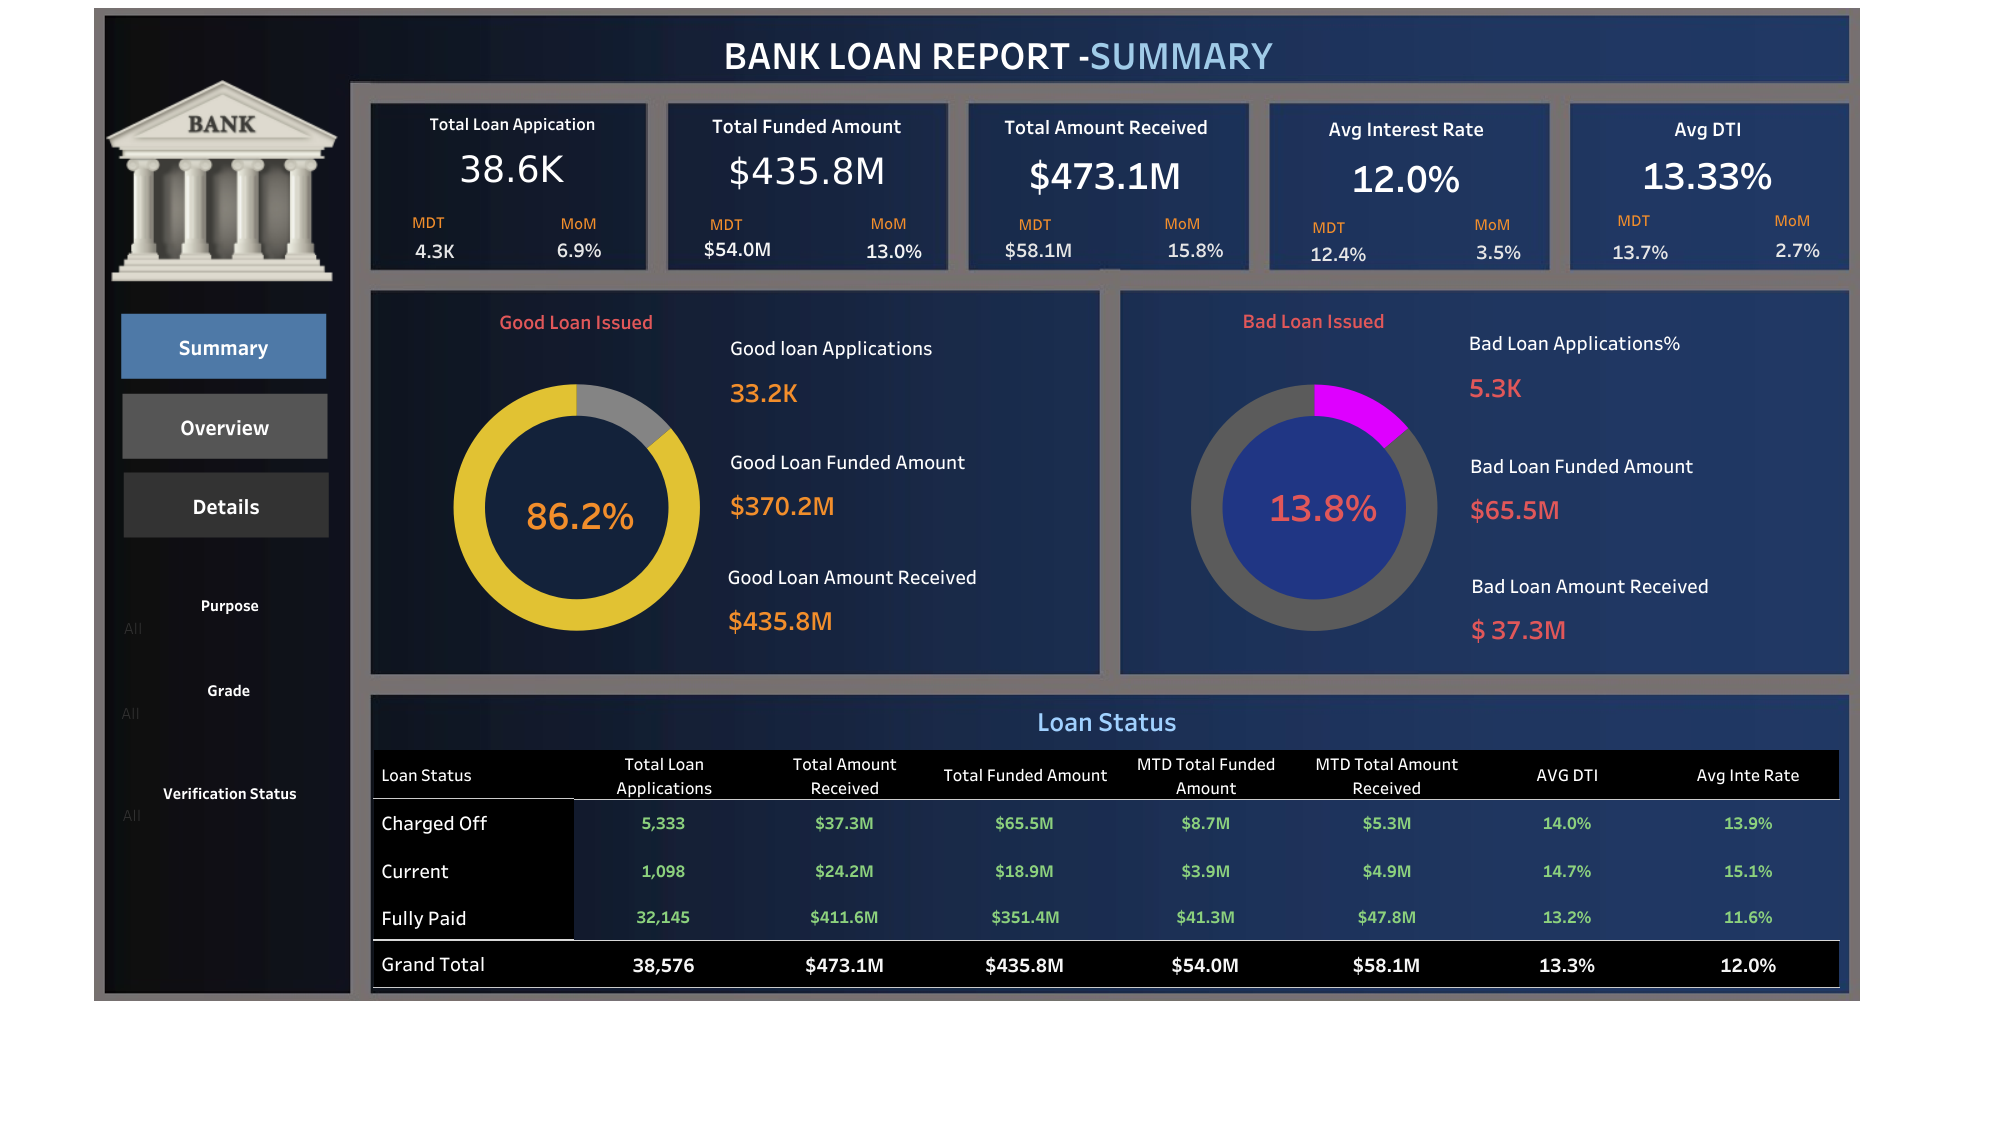

The dashboard page shown, as its layout file describes it:
{"tool":"tableau","page":{"name":"SUMMARY","canvas":[1600,900],"ordinal":2},"visuals":[{"type":"text","box":[576,20,611,46]},{"type":"image","param":"Image/bank_.png","box":[81,64,194,161]},{"type":"worksheet","title":"Total Loan Appication","mark":"Automatic","box":[299,83,222,72]},{"type":"worksheet","title":"Total Funded Amount","mark":"Automatic","box":[534,83,223,72]},{"type":"worksheet","title":"Total Amount Received","mark":"Automatic","box":[775,84,220,74]},{"type":"worksheet","title":"Avg Interest Rate ","mark":"Automatic","box":[1018,86,214,74]},{"type":"worksheet","title":"Avg  DTI","mark":"Automatic","box":[1257,86,219,71]},{"type":"text","box":[661,160,100,35]},{"type":"text","box":[1257,161,100,30]},{"type":"text","box":[1384,161,100,30]},{"type":"text","box":[327,162,38,30]},{"type":"text","box":[896,163,100,30]},{"type":"text","box":[531,164,100,30]},{"type":"text","box":[778,164,100,30]},{"type":"text","box":[1144,164,100,30]},{"type":"worksheet","title":"MoM Avg Int Rate","mark":"Automatic","box":[1172,164,54,56]},{"type":"text","box":[1013,166,100,30]},{"type":"text","box":[435,167,56,21]},{"type":"worksheet","title":"MoM Avg DTI","mark":"Automatic","box":[1403,167,70,45]},{"type":"worksheet","title":"MoM Total amount Received","mark":"Automatic","box":[924,185,65,29]},{"type":"worksheet","title":"MTD Total Funded Amount","mark":"Automatic","box":[552,186,77,24]},{"type":"worksheet","title":"MDT Avg Int Rate","mark":"Automatic","box":[1035,186,71,32]},{"type":"worksheet","title":"MDT Avg DTI","mark":"Automatic","box":[1277,186,71,30]},{"type":"worksheet","title":"MoM Loan Applications","mark":"Automatic","box":[438,187,51,24]},{"type":"worksheet","title":"MoM Total Funded amount","mark":"Automatic","box":[685,187,62,26]},{"type":"worksheet","title":"MTD Loan Applications","mark":"Automatic","box":[324,188,49,24]},{"type":"worksheet","title":"MTD Total Amount Received","mark":"Automatic","box":[793,189,78,22]},{"type":"worksheet","title":"Bad Loan Issued ","mark":"Pie","rows":["Calculation_1014998802679861271","Calculation_1014998802679861271"],"box":[902,239,298,298]},{"type":"worksheet","title":"Good Loan Issued","mark":"Pie","rows":["Calculation_1014998802679861271","Calculation_1014998802679861271"],"box":[302,240,318,296]},{"type":"dashboard-object","box":[97,251,164,52]},{"type":"worksheet","title":"Bad Loan Applications%","mark":"Automatic","box":[1167,253,300,75]},{"type":"worksheet","title":"Good loan Applications","mark":"Automatic","box":[576,257,300,75]},{"type":"dashboard-object","box":[98,315,164,52]},{"type":"worksheet","title":"Good Loan Funded Amount ","mark":"Automatic","box":[576,348,300,75]},{"type":"worksheet","title":"Bad Loan Funded Amount ","mark":"Automatic","box":[1168,351,300,75]},{"type":"worksheet","title":"Bad Loan%","mark":"Automatic","box":[959,368,199,75]},{"type":"worksheet","title":"Good Loan Applications%","mark":"Automatic","box":[405,377,119,68]},{"type":"dashboard-object","box":[99,378,164,52]},{"type":"worksheet","title":"Good Loan Amount Received","mark":"Automatic","box":[574,440,300,75]},{"type":"worksheet","title":"Bad Loan Amount Received ","mark":"Automatic","box":[1169,447,300,75]},{"type":"filter","title":"Good Loan Issued","param":"[federated.0kz0aj01wvldix11vdus30y9d7lb].[none:purpose:nk]","box":[97,474,174,48]},{"type":"filter","title":"Good Loan Issued","param":"[federated.0kz0aj01wvldix11vdus30y9d7lb].[none:grade:nk]","box":[95,542,176,59]},{"type":"worksheet","title":"Loan Status","mark":"Automatic","rows":["loan_status"],"box":[299,557,1173,234]},{"type":"filter","title":"Good Loan Issued","param":"[federated.0kz0aj01wvldix11vdus30y9d7lb].[none:verification_status:nk]","box":[96,624,176,60]}]}

Visuals, with their boxes in screenshot pixels (x1, y1, x2, y2), scaled from the page's 1600x900 canvas onto the 1999x1124 screenshot:
text: {"x1": 720, "y1": 25, "x2": 1483, "y2": 82}
image: {"x1": 101, "y1": 80, "x2": 344, "y2": 281}
"Total Loan Appication" worksheet: {"x1": 374, "y1": 104, "x2": 651, "y2": 194}
"Total Funded Amount" worksheet: {"x1": 667, "y1": 104, "x2": 946, "y2": 194}
"Total Amount Received" worksheet: {"x1": 968, "y1": 105, "x2": 1243, "y2": 197}
"Avg Interest Rate " worksheet: {"x1": 1272, "y1": 107, "x2": 1539, "y2": 200}
"Avg  DTI" worksheet: {"x1": 1570, "y1": 107, "x2": 1844, "y2": 196}
text: {"x1": 826, "y1": 200, "x2": 951, "y2": 244}
text: {"x1": 1570, "y1": 201, "x2": 1695, "y2": 239}
text: {"x1": 1729, "y1": 201, "x2": 1854, "y2": 239}
text: {"x1": 409, "y1": 202, "x2": 456, "y2": 240}
text: {"x1": 1119, "y1": 204, "x2": 1244, "y2": 241}
text: {"x1": 663, "y1": 205, "x2": 788, "y2": 242}
text: {"x1": 972, "y1": 205, "x2": 1097, "y2": 242}
text: {"x1": 1429, "y1": 205, "x2": 1554, "y2": 242}
"MoM Avg Int Rate" worksheet: {"x1": 1464, "y1": 205, "x2": 1532, "y2": 275}
text: {"x1": 1266, "y1": 207, "x2": 1391, "y2": 245}
text: {"x1": 543, "y1": 209, "x2": 613, "y2": 235}
"MoM Avg DTI" worksheet: {"x1": 1753, "y1": 209, "x2": 1840, "y2": 265}
"MoM Total amount Received" worksheet: {"x1": 1154, "y1": 231, "x2": 1236, "y2": 267}
"MTD Total Funded Amount" worksheet: {"x1": 690, "y1": 232, "x2": 786, "y2": 262}
"MDT Avg Int Rate" worksheet: {"x1": 1293, "y1": 232, "x2": 1382, "y2": 272}
"MDT Avg DTI" worksheet: {"x1": 1595, "y1": 232, "x2": 1684, "y2": 270}
"MoM Loan Applications" worksheet: {"x1": 547, "y1": 234, "x2": 611, "y2": 264}
"MoM Total Funded amount" worksheet: {"x1": 856, "y1": 234, "x2": 933, "y2": 266}
"MTD Loan Applications" worksheet: {"x1": 405, "y1": 235, "x2": 466, "y2": 265}
"MTD Total Amount Received" worksheet: {"x1": 991, "y1": 236, "x2": 1088, "y2": 264}
"Bad Loan Issued " worksheet (Pie marks): {"x1": 1127, "y1": 298, "x2": 1499, "y2": 671}
"Good Loan Issued" worksheet (Pie marks): {"x1": 377, "y1": 300, "x2": 775, "y2": 669}
dashboard-object: {"x1": 121, "y1": 313, "x2": 326, "y2": 378}
"Bad Loan Applications%" worksheet: {"x1": 1458, "y1": 316, "x2": 1833, "y2": 410}
"Good loan Applications" worksheet: {"x1": 720, "y1": 321, "x2": 1094, "y2": 415}
dashboard-object: {"x1": 122, "y1": 393, "x2": 327, "y2": 458}
"Good Loan Funded Amount " worksheet: {"x1": 720, "y1": 435, "x2": 1094, "y2": 528}
"Bad Loan Funded Amount " worksheet: {"x1": 1459, "y1": 438, "x2": 1834, "y2": 532}
"Bad Loan%" worksheet: {"x1": 1198, "y1": 460, "x2": 1447, "y2": 553}
"Good Loan Applications%" worksheet: {"x1": 506, "y1": 471, "x2": 655, "y2": 556}
dashboard-object: {"x1": 124, "y1": 472, "x2": 329, "y2": 537}
"Good Loan Amount Received" worksheet: {"x1": 717, "y1": 550, "x2": 1092, "y2": 643}
"Bad Loan Amount Received " worksheet: {"x1": 1461, "y1": 558, "x2": 1835, "y2": 652}
"Good Loan Issued" filter: {"x1": 121, "y1": 592, "x2": 339, "y2": 652}
"Good Loan Issued" filter: {"x1": 119, "y1": 677, "x2": 339, "y2": 751}
"Loan Status" worksheet: {"x1": 374, "y1": 696, "x2": 1839, "y2": 988}
"Good Loan Issued" filter: {"x1": 120, "y1": 779, "x2": 340, "y2": 854}
